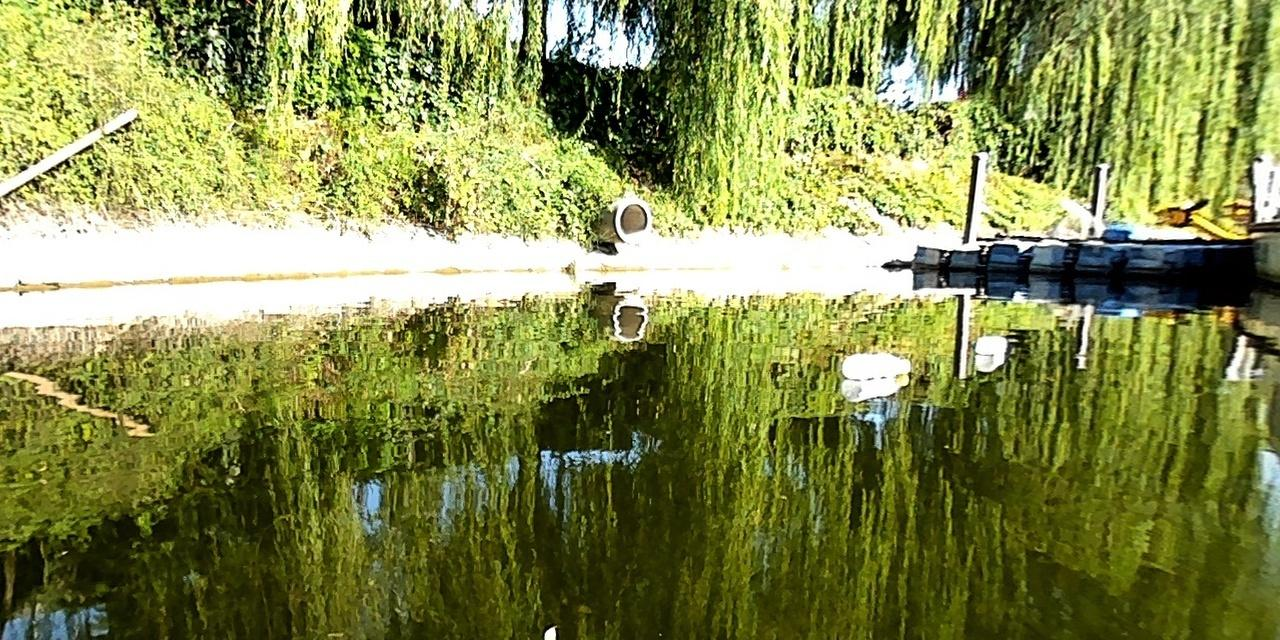bottle: (840, 351, 913, 376), (975, 334, 1007, 356)
